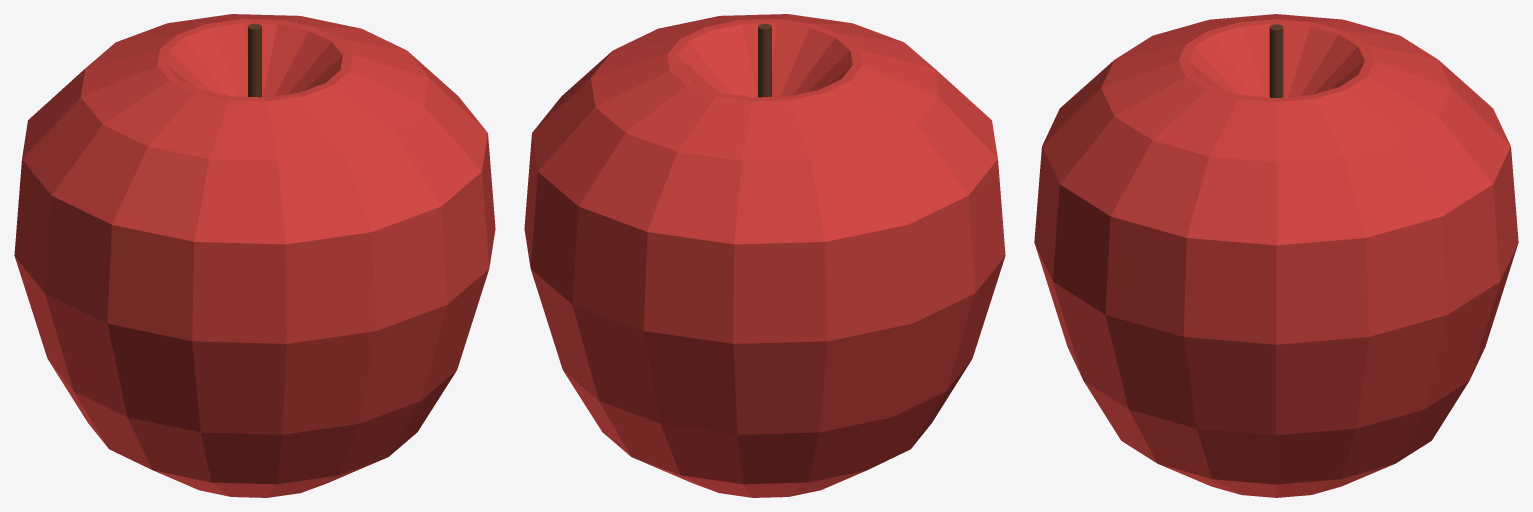
The model's file is apple.fbx.
The picture shows the model from 3 angles, left to right: view 1: azimuth 30°, elevation 25°; view 2: azimuth 150°, elevation 25°; view 3: azimuth 270°, elevation 25°; orthographic projection.
Parts seen in each view (by area): view 1: APPLE; view 2: APPLE; view 3: APPLE.
Part boxes in pixels (x1=…): APPLE: x1=14, y1=14, x2=495, y2=497; APPLE: x1=524, y1=14, x2=1005, y2=497; APPLE: x1=1034, y1=14, x2=1518, y2=497.
Size of the model in its own units: 200 by 197 by 200.
